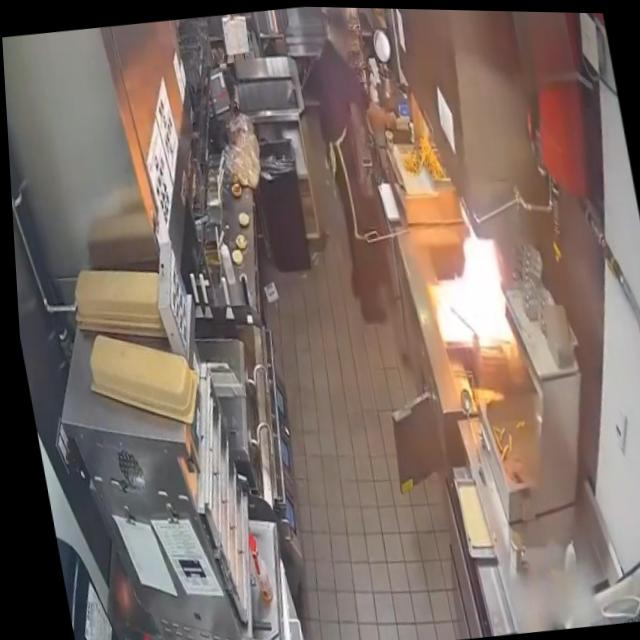fire: (417, 215, 513, 360)
